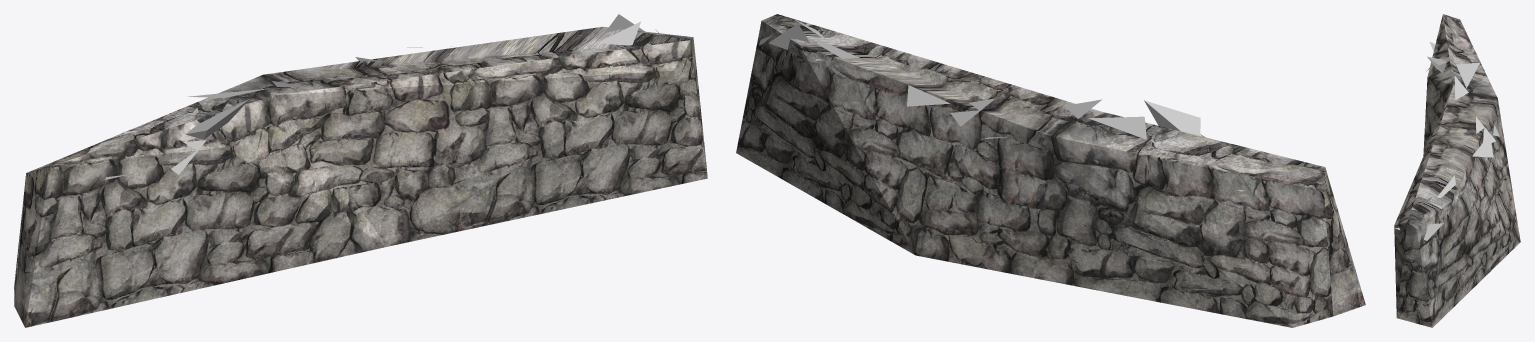
File: Wall_1b_LOD4.fbx
3 renders of one model, left to right at view 1: azimuth 30°, elevation 25°; view 2: azimuth 150°, elevation 25°; view 3: azimuth 270°, elevation 25°, orthographic. The views are drawn at different scales.
Visible parts, largest first — view 1: Wall, Rock; view 2: Wall, Rock; view 3: Wall, Rock.
Part boxes in pixels (bbox=[...]): Wall: bbox=[14, 26, 707, 327]; Rock: bbox=[105, 14, 683, 179]; Wall: bbox=[736, 14, 1365, 327]; Rock: bbox=[759, 19, 1244, 191]; Wall: bbox=[1394, 14, 1520, 327]; Rock: bbox=[1395, 41, 1499, 240].
Bounding box in the file's own units: 845 × 201 × 203.
